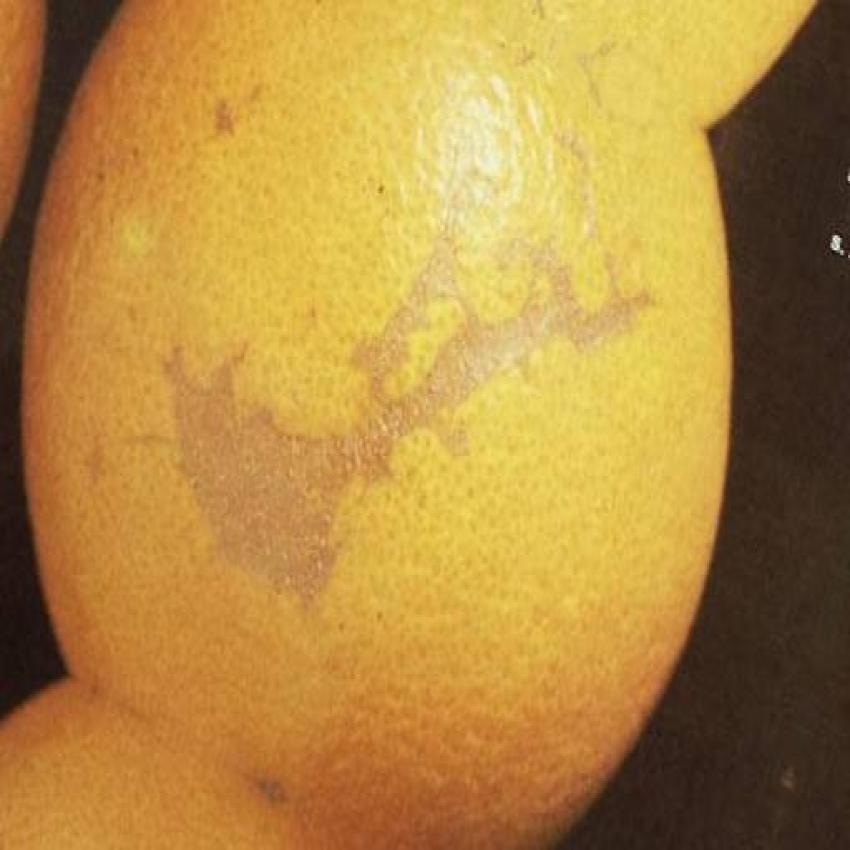Mal estado: (22, 0, 735, 848)
